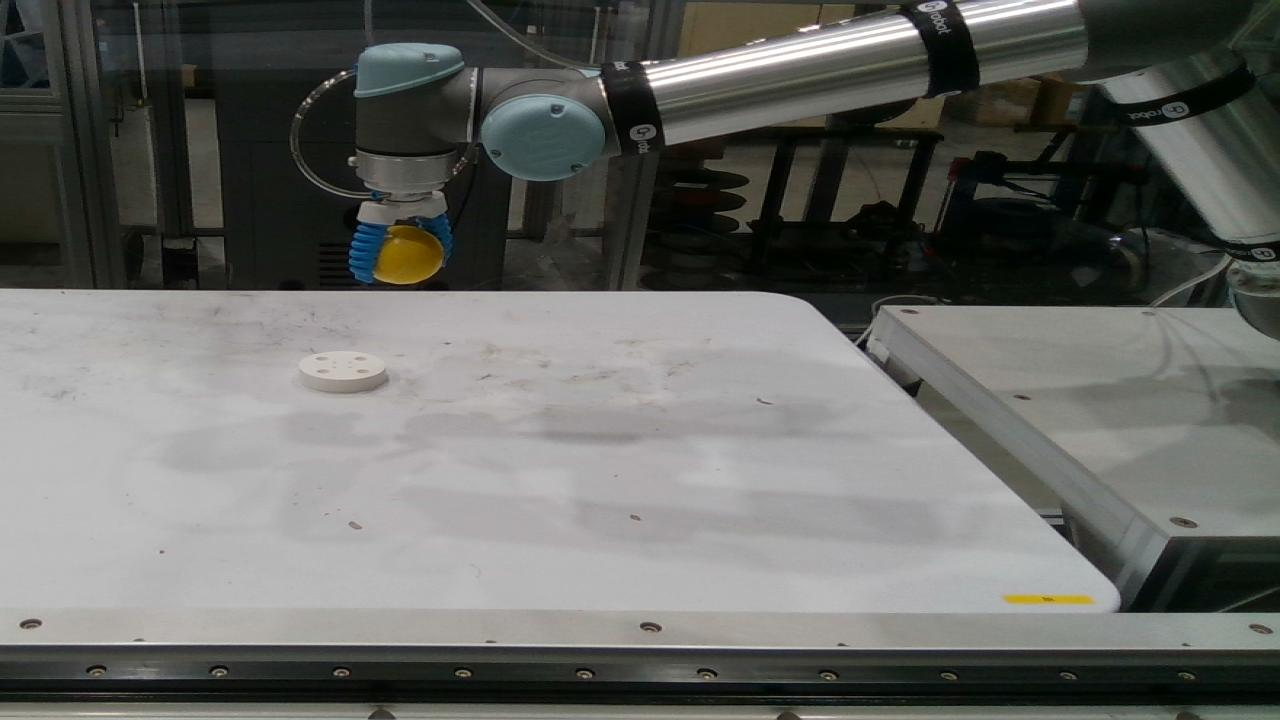UR5: (351, 0, 1279, 339)
gripper_left: (417, 212, 452, 266)
gripper_right: (347, 221, 390, 284)
target: (373, 225, 445, 285), (299, 351, 388, 394)
